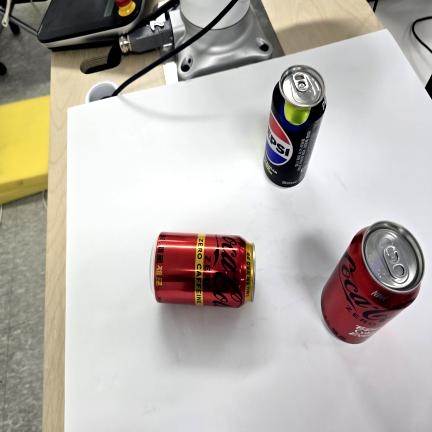can_coke_decaf: (148, 228, 257, 310)
can_coke_zero: (321, 219, 426, 346)
can_pepsi_zero: (262, 64, 328, 187)
